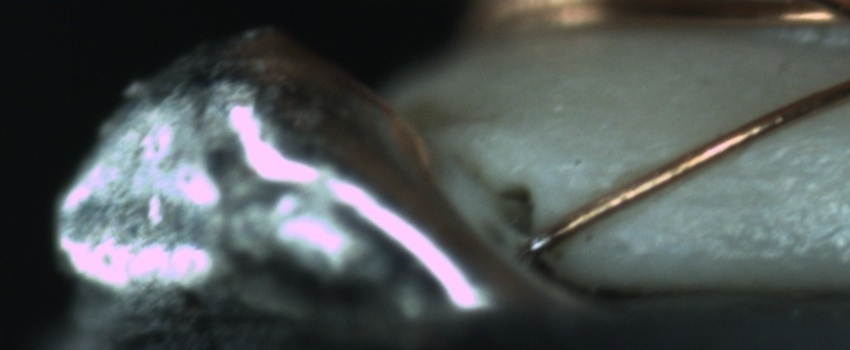DL: (623, 137, 848, 212)
